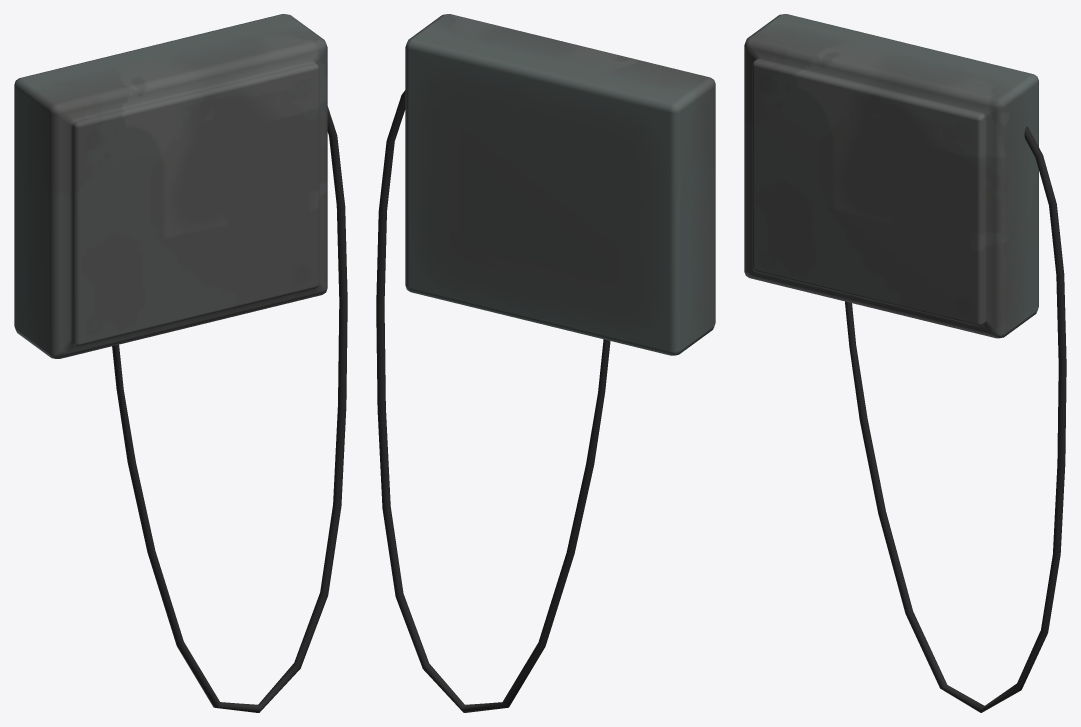
The model's file is Env_WiresBox_01.fbx.
The picture shows the model from 3 angles, left to right: view 1: azimuth 30°, elevation 25°; view 2: azimuth 150°, elevation 25°; view 3: azimuth 330°, elevation 25°; orthographic projection. The views are drawn at different scales.
Parts seen in each view (by area): view 1: Env_WiresBox_01; view 2: Env_WiresBox_01; view 3: Env_WiresBox_01.
Boxes of the visible parts, left/top/right/bottom form: Env_WiresBox_01: left=14, top=14, right=347, bottom=712; Env_WiresBox_01: left=376, top=14, right=715, bottom=712; Env_WiresBox_01: left=744, top=14, right=1066, bottom=712.
Bounding box in the file's own units: 23.8 × 48.35 × 6.31.
